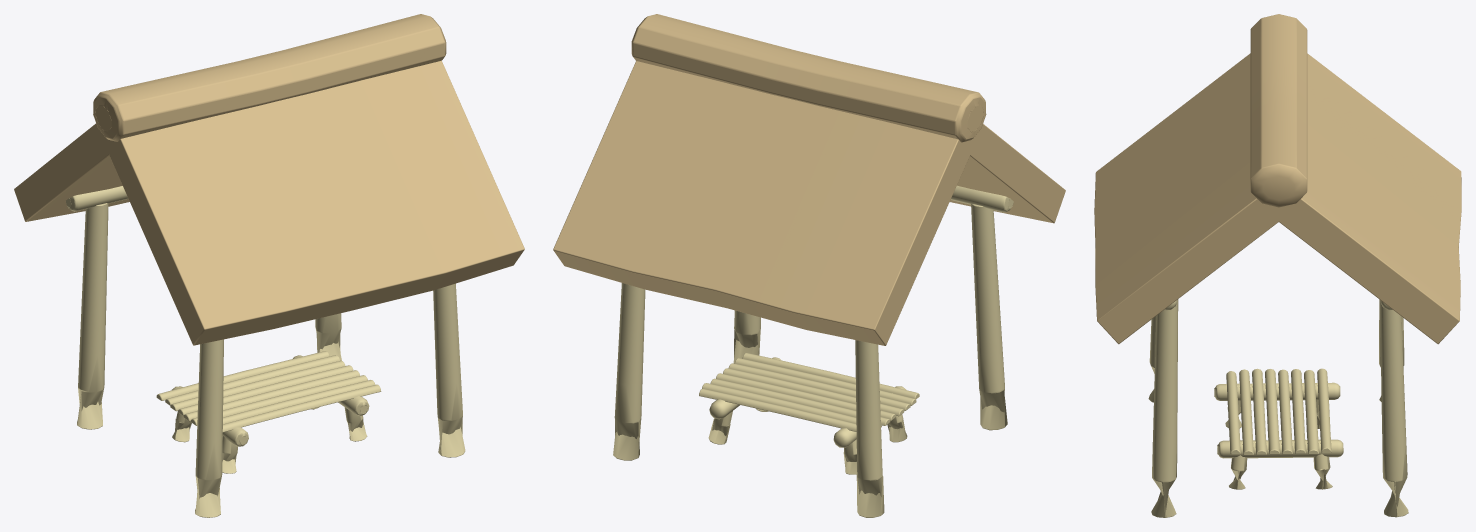
Rendered from pt_lean_to_1.glb.
The picture shows the model from 3 angles, left to right: view 1: azimuth 30°, elevation 25°; view 2: azimuth 150°, elevation 25°; view 3: azimuth 270°, elevation 25°; orthographic projection. The views are drawn at different scales.
Visible parts, largest first — view 1: pt_lean_to_1_thatch, pt_lean_to_1_bamboo; view 2: pt_lean_to_1_thatch, pt_lean_to_1_bamboo; view 3: pt_lean_to_1_thatch, pt_lean_to_1_bamboo.
Boxes of the visible parts, x1,y1,x2,y2 form: pt_lean_to_1_thatch: (14,14,524,345); pt_lean_to_1_bamboo: (65,186,465,517); pt_lean_to_1_thatch: (553,14,1065,345); pt_lean_to_1_bamboo: (613,185,1013,517); pt_lean_to_1_thatch: (1094,14,1461,344); pt_lean_to_1_bamboo: (1148,299,1408,517).
Size of the model in its own units: 3.22 by 3.55 by 3.21.
